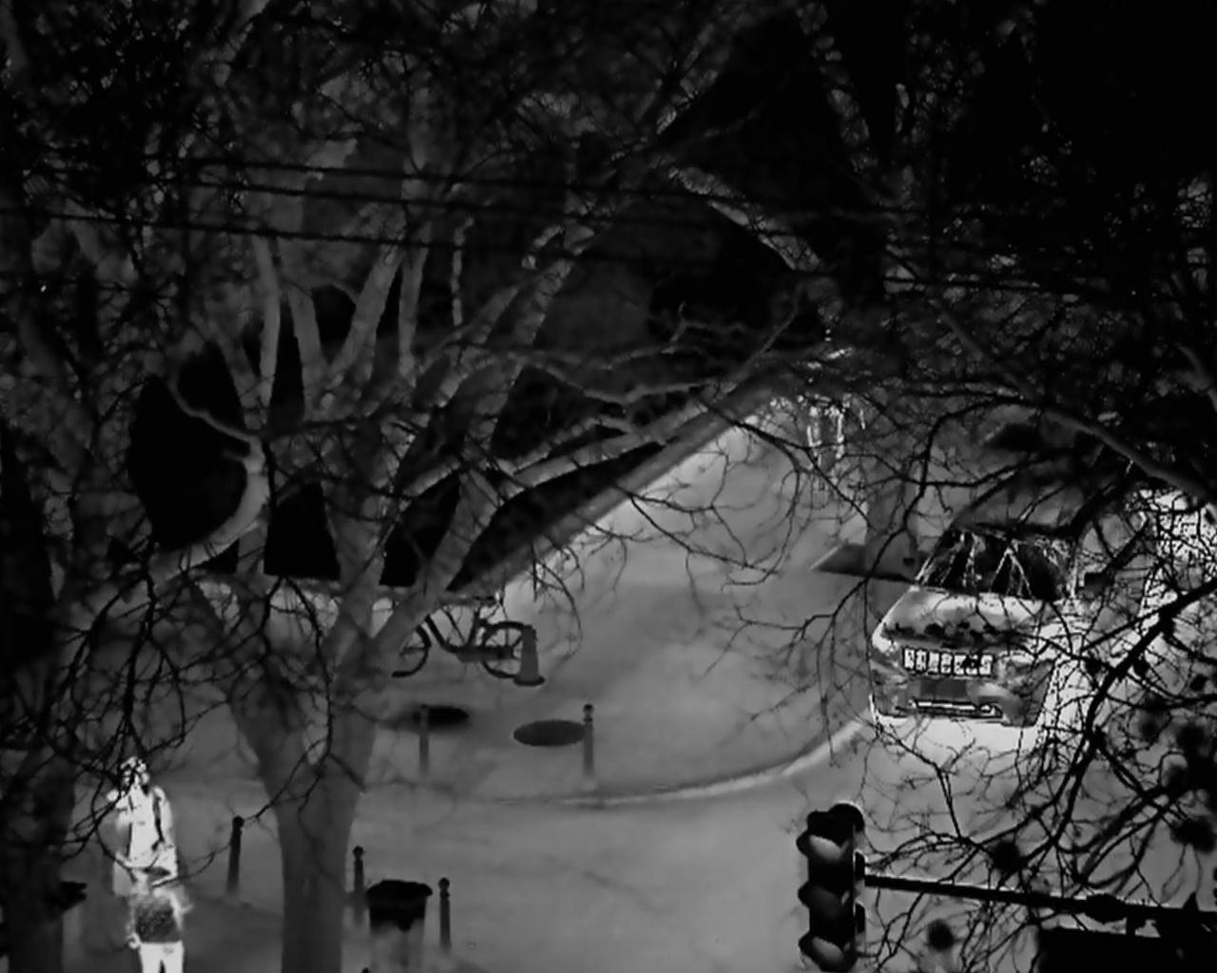person: (117, 759, 191, 910), (128, 839, 184, 973)
